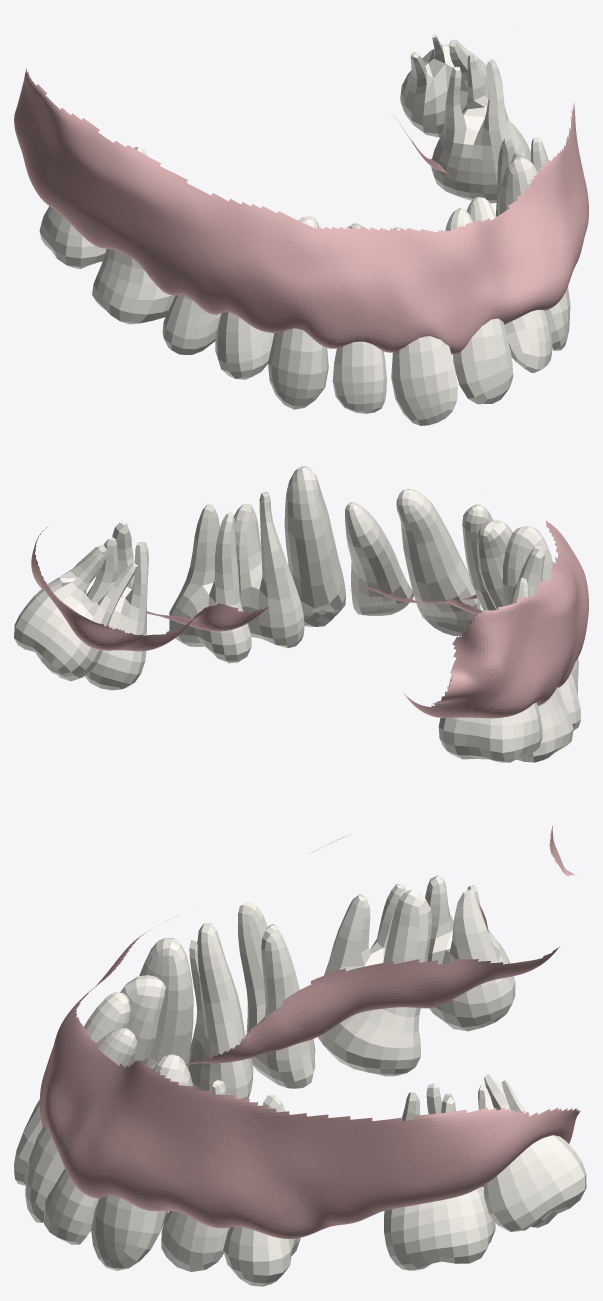
File: nih-hra-upper-arch.glb
3 views of the same model, one above another, from view 1: azimuth 30°, elevation 25°; view 2: azimuth 150°, elevation 25°; view 3: azimuth 270°, elevation 25° (orthographic). The views are drawn at different scales.
Parts seen in each view (by area): view 1: upper_gingiva, upper_teeth; view 2: upper_teeth, upper_gingiva; view 3: upper_teeth, upper_gingiva.
Part boxes in pixels (<box>): upper_gingiva: <box>14,28,588,354</box>; upper_teeth: <box>39,34,570,425</box>; upper_teeth: <box>14,466,580,762</box>; upper_gingiva: <box>31,520,588,718</box>; upper_teeth: <box>14,875,586,1286</box>; upper_gingiva: <box>39,826,580,1238</box>.
Size of the model in its own units: 0.0641 by 0.0312 by 0.0567.
